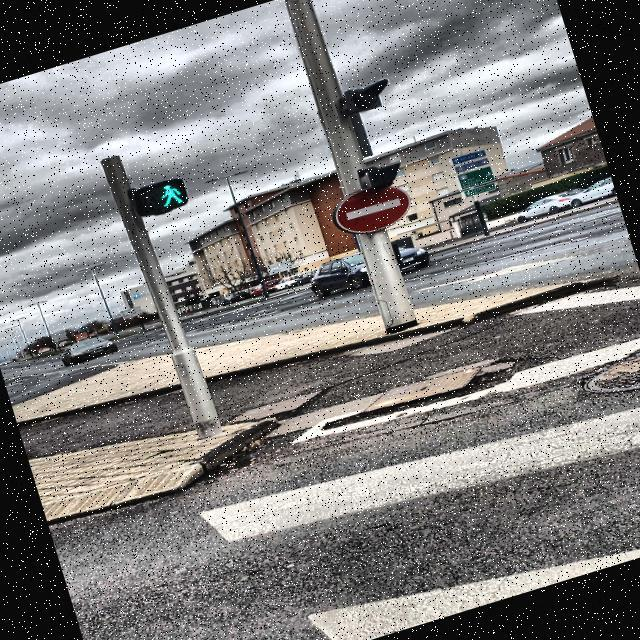green_light: (155, 180, 184, 208)
